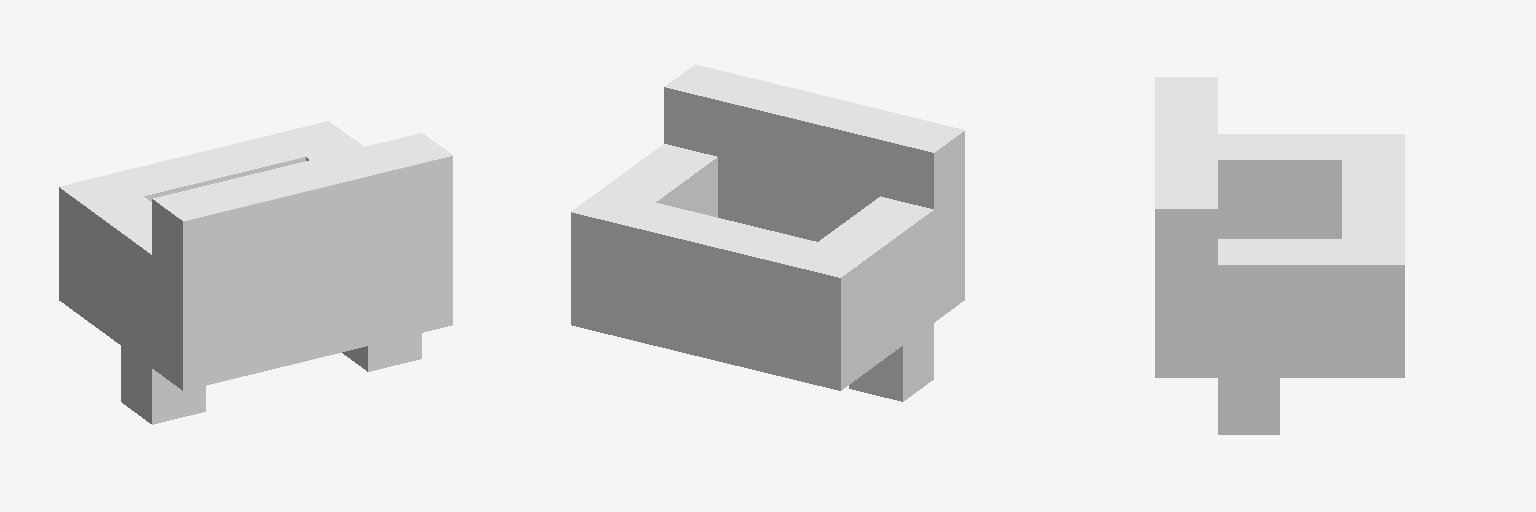
File: SH_Soldier-1-Vest.obj
3 views of the same model, side by side, from view 1: azimuth 30°, elevation 25°; view 2: azimuth 150°, elevation 25°; view 3: azimuth 270°, elevation 25° (orthographic).
Parts seen in each view (by area): view 1: Vest; view 2: Vest; view 3: Vest.
Part boxes in pixels (left/top/right/bottom): Vest: left=59, top=121, right=452, bottom=424; Vest: left=571, top=64, right=964, bottom=401; Vest: left=1155, top=77, right=1404, bottom=434.
Bounding box in the file's own units: 0.5 × 0.4 × 0.4.